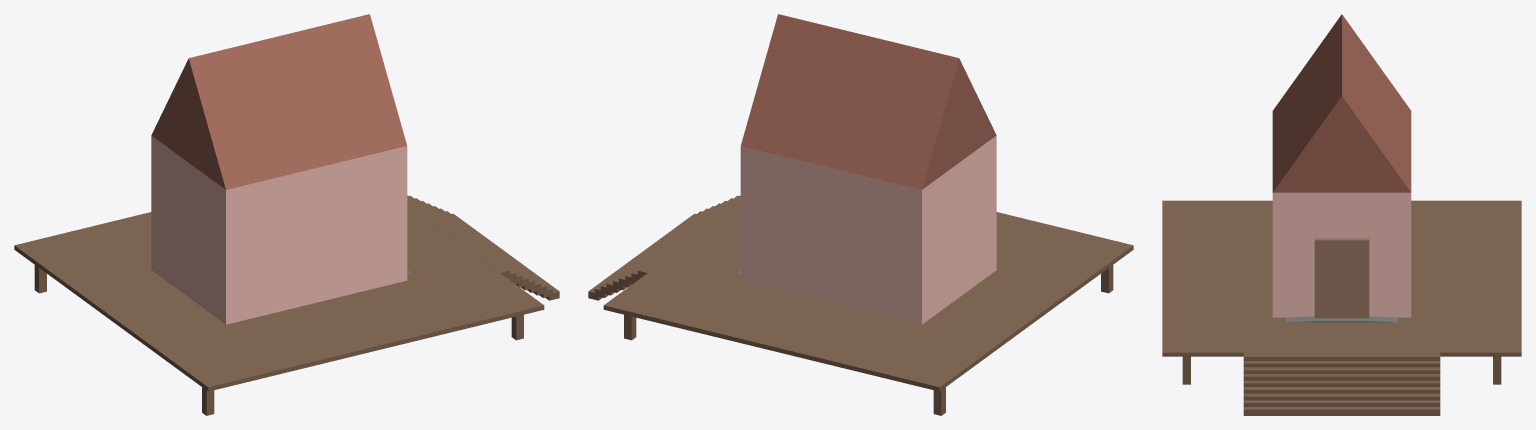
File: houseB.fbx
3 renders of one model, left to right at view 1: azimuth 30°, elevation 25°; view 2: azimuth 150°, elevation 25°; view 3: azimuth 270°, elevation 25°, orthographic. The views are drawn at different scales.
Parts seen in each view (by area): view 1: House B; view 2: House B; view 3: House B.
Part boxes in pixels (box(x1,y1,x2,y2)): House B: box(14, 14, 559, 415); House B: box(588, 14, 1133, 415); House B: box(1162, 14, 1521, 415).
Bounding box in the file's own units: 396 × 267 × 336.
1 material, 1 textured.
